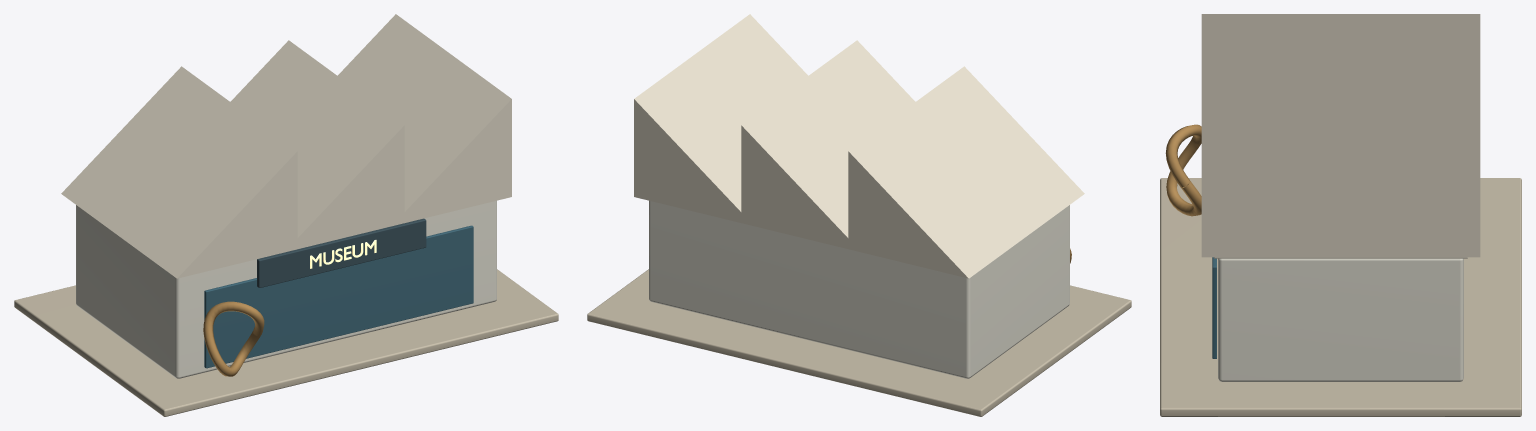
Rendered from museum.glb.
The picture shows the model from 3 angles, left to right: view 1: azimuth 30°, elevation 25°; view 2: azimuth 150°, elevation 25°; view 3: azimuth 270°, elevation 25°; orthographic projection. The views are drawn at different scales.
Parts seen in each view (by area): view 1: museum_Sawtooth_Gallery.003, museum_Site_Paving.001, museum_Sawtooth_Gallery.004, museum_Sawtooth_Gallery.005, museum_Building_Volume.001, museum_Museum_Entry.001, museum_Sign_Backplate.001, museum_Courtyard_Sculpture.001, museum_Lettering_MUSEUM.001; view 2: museum_Building_Volume.001, museum_Sawtooth_Gallery.003, museum_Site_Paving.001, museum_Sawtooth_Gallery.004, museum_Sawtooth_Gallery.005; view 3: museum_Sawtooth_Gallery.005, museum_Site_Paving.001, museum_Building_Volume.001, museum_Sawtooth_Gallery.004, museum_Sawtooth_Gallery.003, museum_Courtyard_Sculpture.001, museum_Roof_Coping.001, museum_Museum_Entry.001.
Part boxes in pixels (left/top/right/bottom): museum_Sawtooth_Gallery.003: left=61, top=66, right=297, bottom=278; museum_Site_Paving.001: left=14, top=269, right=558, bottom=416; museum_Sawtooth_Gallery.004: left=230, top=40, right=404, bottom=251; museum_Sawtooth_Gallery.005: left=337, top=14, right=511, bottom=224; museum_Building_Volume.001: left=76, top=200, right=496, bottom=378; museum_Museum_Entry.001: left=204, top=225, right=473, bottom=368; museum_Sign_Backplate.001: left=257, top=218, right=426, bottom=287; museum_Courtyard_Sculpture.001: left=203, top=301, right=264, bottom=376; museum_Lettering_MUSEUM.001: left=310, top=240, right=376, bottom=268; museum_Building_Volume.001: left=649, top=200, right=1069, bottom=378; museum_Sawtooth_Gallery.003: left=848, top=66, right=1084, bottom=278; museum_Site_Paving.001: left=587, top=269, right=1131, bottom=416; museum_Sawtooth_Gallery.004: left=741, top=40, right=915, bottom=250; museum_Sawtooth_Gallery.005: left=634, top=14, right=808, bottom=225; museum_Sawtooth_Gallery.005: left=1201, top=139, right=1480, bottom=257; museum_Site_Paving.001: left=1160, top=178, right=1521, bottom=416; museum_Building_Volume.001: left=1218, top=258, right=1463, bottom=381; museum_Sawtooth_Gallery.004: left=1201, top=76, right=1480, bottom=139; museum_Sawtooth_Gallery.003: left=1201, top=14, right=1480, bottom=76; museum_Courtyard_Sculpture.001: left=1165, top=124, right=1201, bottom=216; museum_Roof_Coping.001: left=1214, top=257, right=1467, bottom=258; museum_Museum_Entry.001: left=1212, top=257, right=1216, bottom=358.
Size of the model in its own units: 11.8 by 6.2 by 7.8.
